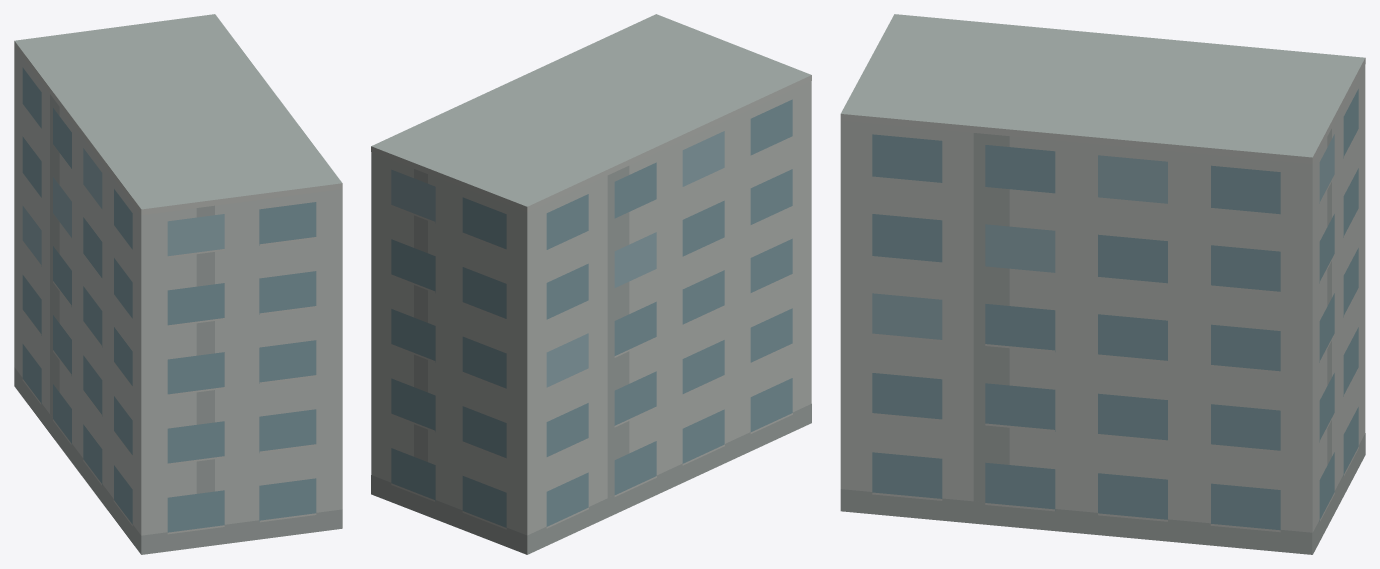
Rendered from survey-upis-32511213.glb.
3 renders of one model, left to right at view 1: azimuth 30°, elevation 25°; view 2: azimuth 150°, elevation 25°; view 3: azimuth 270°, elevation 25°, orthographic. The views are drawn at different scales.
Parts seen in each view (by area): view 1: survey-upis-32511213.tmp; view 2: survey-upis-32511213.tmp; view 3: survey-upis-32511213.tmp.
Part boxes in pixels (bbox=[...]): survey-upis-32511213.tmp: bbox=[14, 14, 342, 554]; survey-upis-32511213.tmp: bbox=[371, 14, 811, 554]; survey-upis-32511213.tmp: bbox=[840, 14, 1365, 554].
Size of the model in its own units: 11.16 by 14.4 by 17.24.
